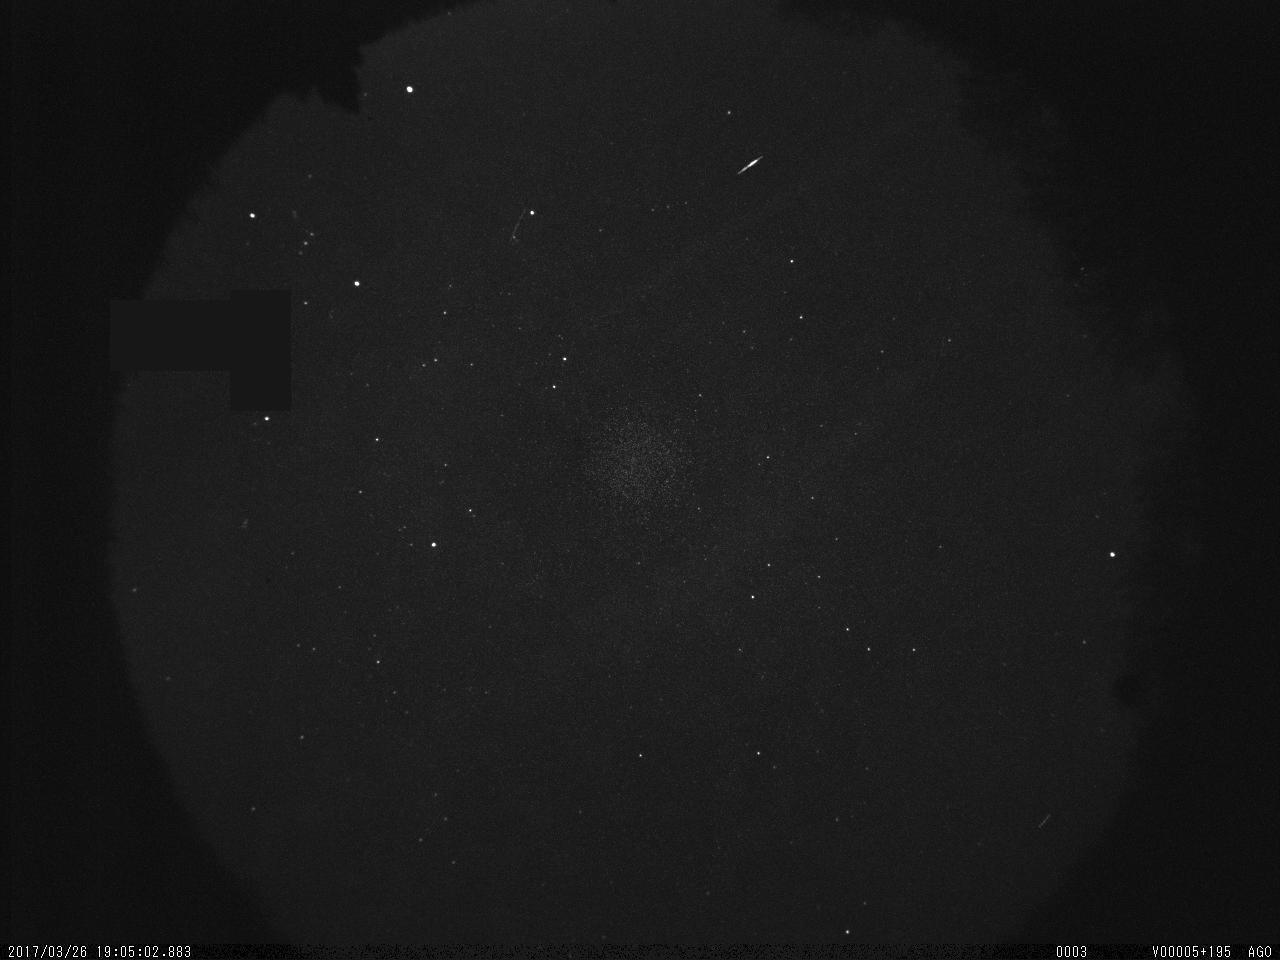Meteor: (728, 149, 774, 181)
